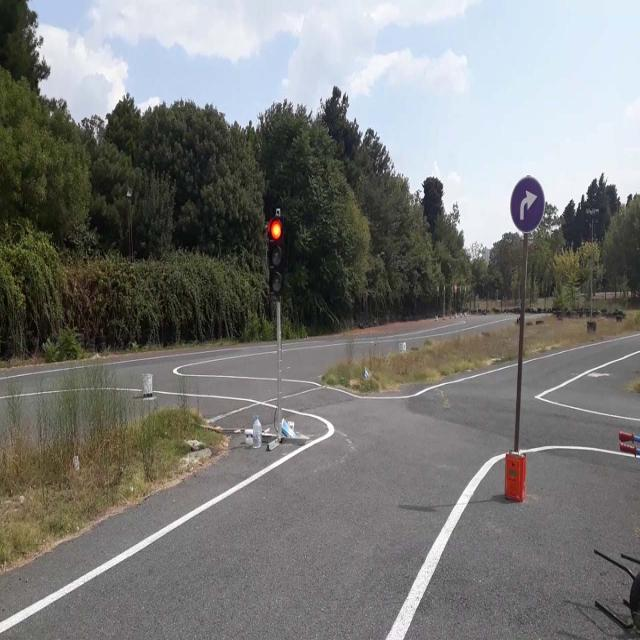kirmizi: (268, 217, 284, 296)
sag: (512, 178, 544, 234)
